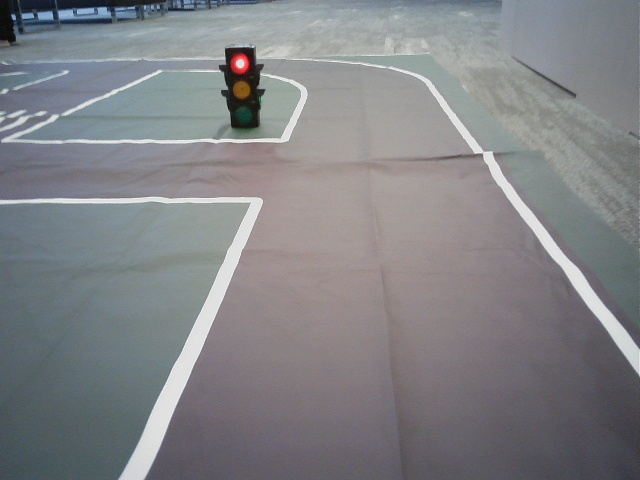red: (227, 51, 254, 129)
